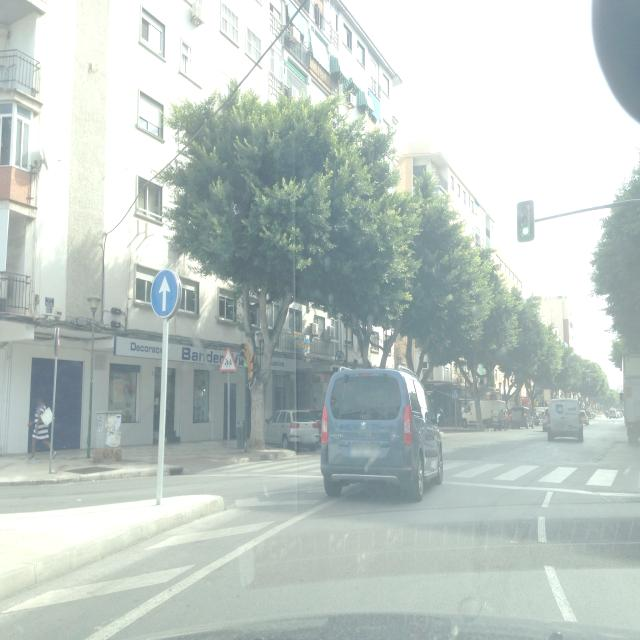car: (320, 366, 444, 500), (263, 408, 323, 452), (546, 398, 584, 442), (481, 400, 509, 430), (509, 406, 533, 428), (580, 410, 590, 425), (608, 408, 617, 419)
